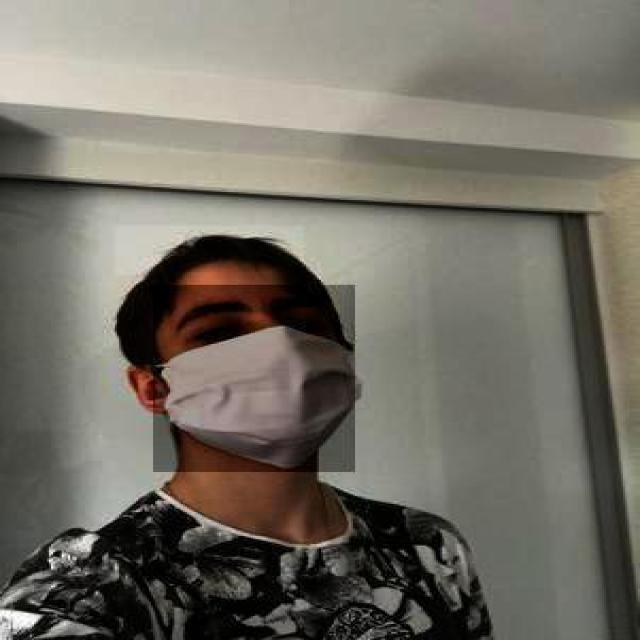face_mask: (153, 284, 357, 473)
head_nohelmet: (115, 226, 306, 276)
